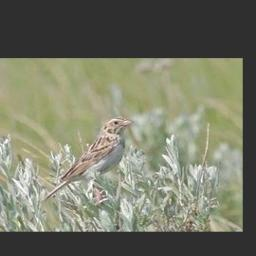Sparrow: (41, 116, 135, 209)
